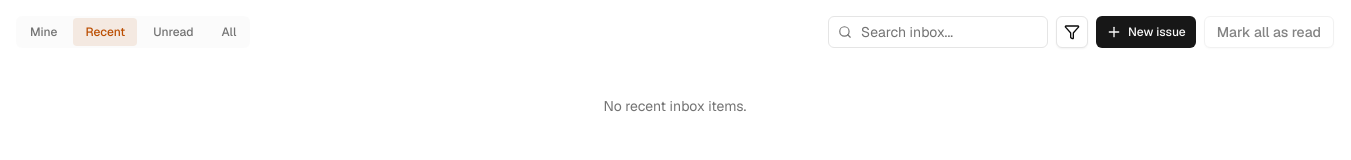
InboxPage › typing in search shows the no-search-match empty state
The width and height of the screenshot is (1351, 160).
Replace the text in the search field labelled "Search inbox..." with "zzzzzz" at (1269, 32), box [16,16,1334,48]
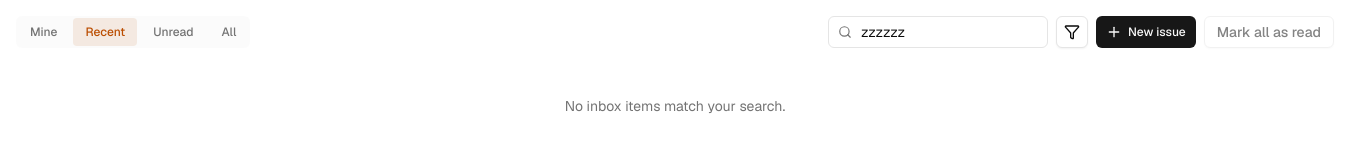
Now the text "No inbox items match your search." is shown, box [565,97,785,115]
